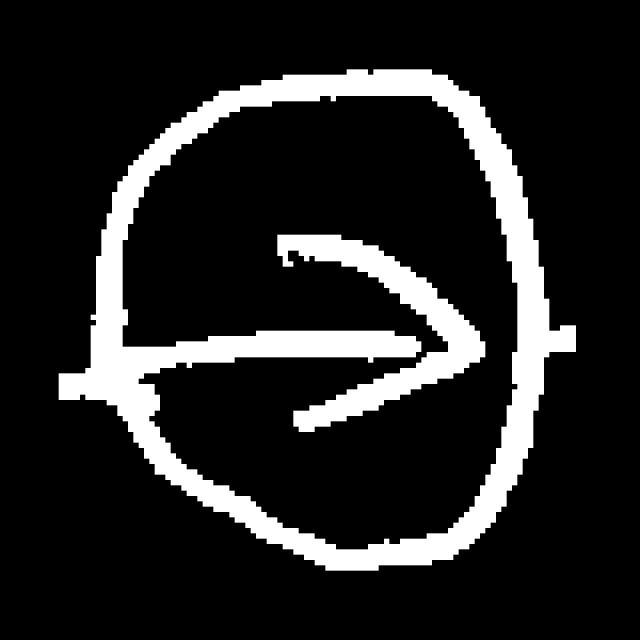current_source: (86, 61, 556, 578)
